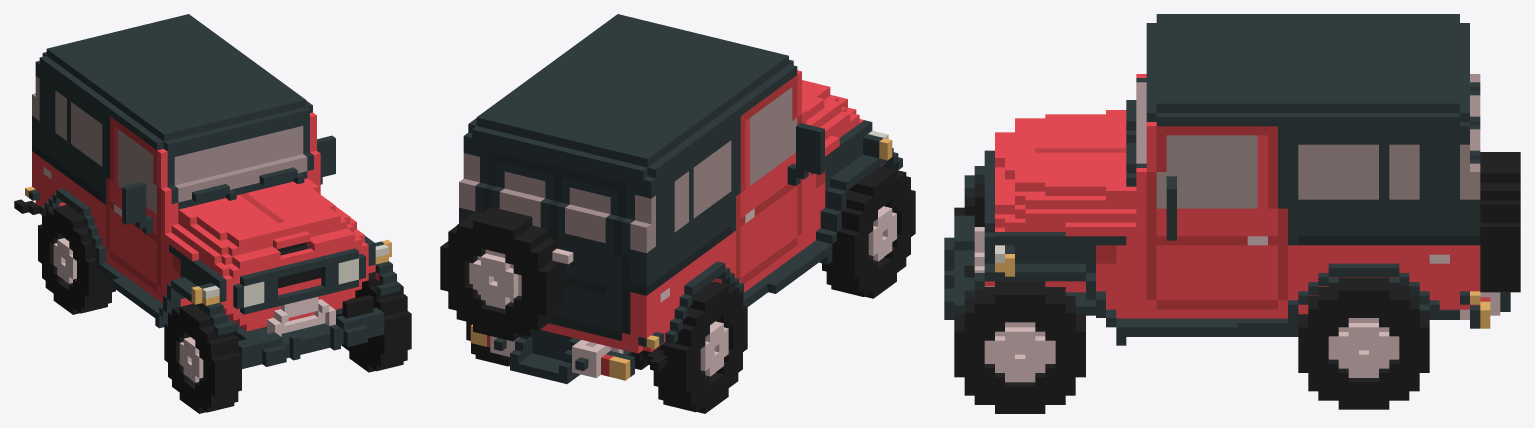
File: car.gltf
3 views of the same model, side by side, from view 1: azimuth 30°, elevation 25°; view 2: azimuth 150°, elevation 25°; view 3: azimuth 270°, elevation 25° (orthographic). The views are drawn at different scales.
Visible parts, largest first — view 1: 1978; view 2: 1978; view 3: 1978.
Boxes of the visible parts, x1,y1,x2,y2 form: 1978: [14, 14, 411, 413]; 1978: [440, 14, 915, 413]; 1978: [944, 14, 1520, 413].
Size of the model in its own units: 3.1 by 3.2 by 5.7.
Materials: 1 (1 with a texture image).
